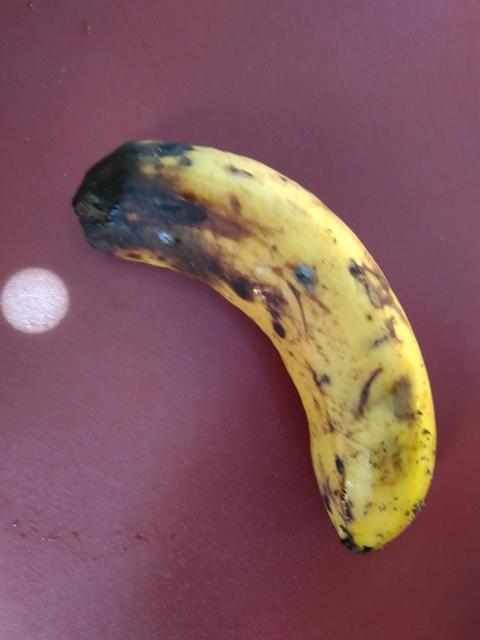rotten: (64, 118, 449, 594)
